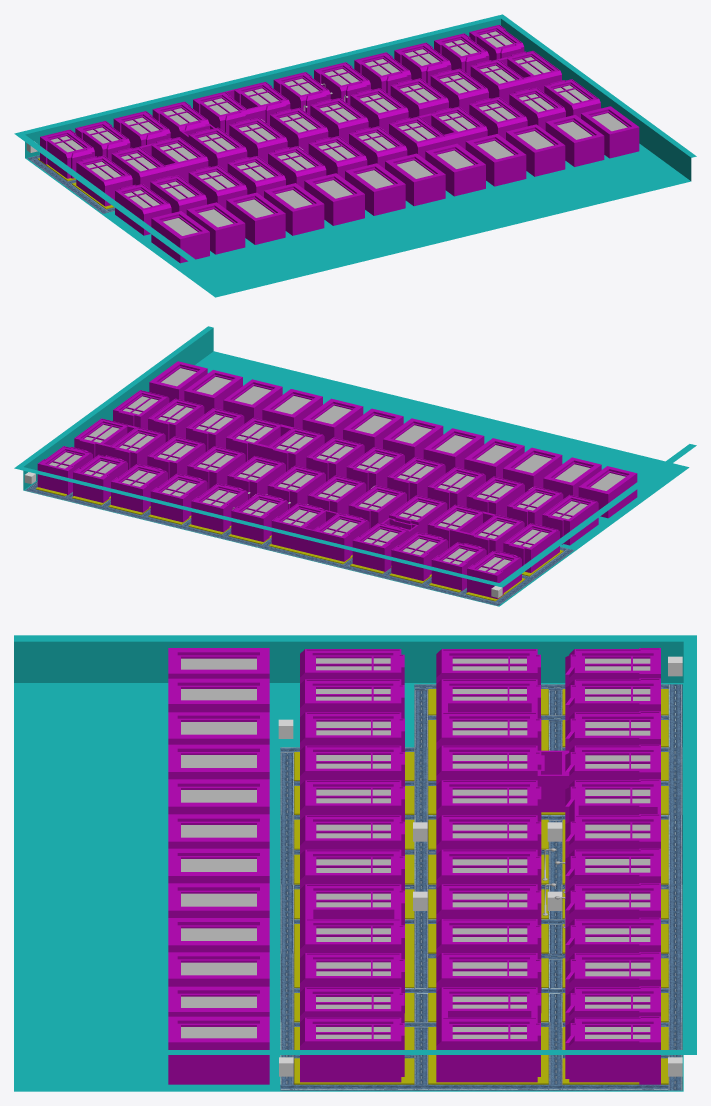
File: jagad.glb
3 views of the same model, one above another, from view 1: azimuth 30°, elevation 25°; view 2: azimuth 150°, elevation 25°; view 3: azimuth 270°, elevation 25° (orthographic). The views are drawn at different scales.
Visible parts, largest first — view 1: Windows-Windows, Building-Building, Glass-Glass, Roads-Roads; view 2: Windows-Windows, Building-Building, Glass-Glass, Roads-Roads, Pavement-Paths; view 3: Windows-Windows, Building-Building, Glass-Glass, Roads-Roads, Pavement-Paths.
Boxes of the visible parts, left/top/right/bottom form: Windows-Windows: left=40, top=24, right=639, bottom=263; Building-Building: left=14, top=14, right=696, bottom=297; Glass-Glass: left=51, top=31, right=627, bottom=235; Roads-Roads: left=27, top=155, right=114, bottom=213; Windows-Windows: left=37, top=361, right=637, bottom=598; Building-Building: left=14, top=326, right=696, bottom=606; Glass-Glass: left=49, top=368, right=625, bottom=573; Roads-Roads: left=25, top=481, right=573, bottom=605; Pavement-Paths: left=36, top=487, right=563, bottom=601; Windows-Windows: left=168, top=648, right=660, bottom=1084; Building-Building: left=14, top=635, right=696, bottom=1091; Glass-Glass: left=181, top=658, right=650, bottom=1038; Roads-Roads: left=280, top=684, right=682, bottom=1090; Pavement-Paths: left=294, top=689, right=668, bottom=1084.
Bounding box in the file's own units: 11.28 × 0.5319 × 7.76.
Materials: 6 (1 with a texture image).
